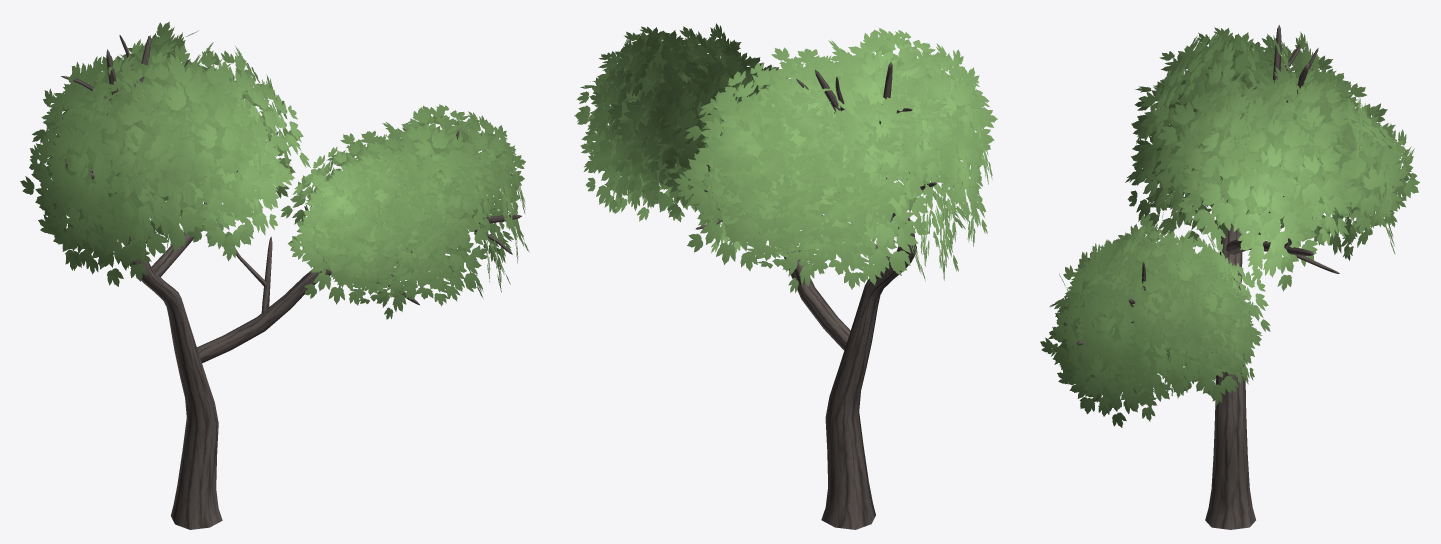
Rendered from MapleTree_1.glb.
The picture shows the model from 3 angles, left to right: view 1: azimuth 30°, elevation 25°; view 2: azimuth 150°, elevation 25°; view 3: azimuth 270°, elevation 25°; orthographic projection. The views are drawn at different scales.
Visible parts, largest first — view 1: MapleTree_1; view 2: MapleTree_1; view 3: MapleTree_1.
Boxes of the visible parts, bbox=[...] form: MapleTree_1: bbox=[20, 21, 529, 529]; MapleTree_1: bbox=[574, 23, 997, 529]; MapleTree_1: bbox=[1040, 25, 1419, 529].
Size of the model in its own units: 6.23 by 6.64 by 4.9.
2 materials, 2 textured.
